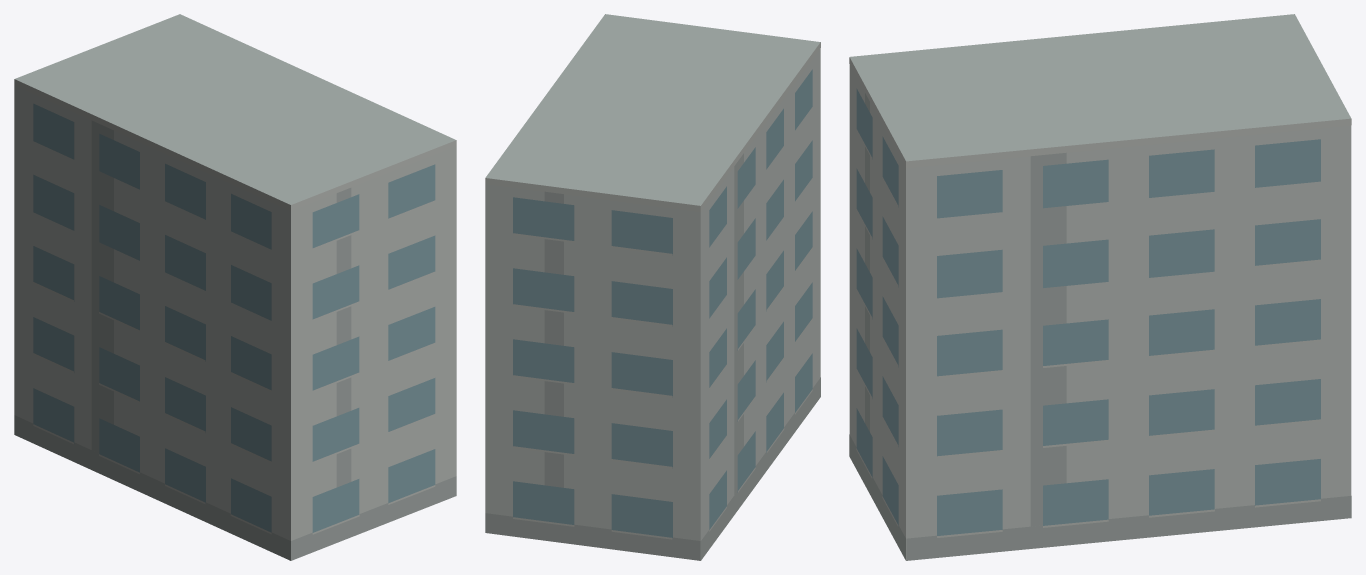
The model's file is survey-upis-32991413.glb.
The picture shows the model from 3 angles, left to right: view 1: azimuth 30°, elevation 25°; view 2: azimuth 150°, elevation 25°; view 3: azimuth 270°, elevation 25°; orthographic projection. The views are drawn at different scales.
Parts seen in each view (by area): view 1: survey-upis-32991413.tmp; view 2: survey-upis-32991413.tmp; view 3: survey-upis-32991413.tmp.
Boxes of the visible parts, x1=… form: survey-upis-32991413.tmp: x1=14, y1=14, x2=456, y2=560; survey-upis-32991413.tmp: x1=485, y1=14, x2=820, y2=560; survey-upis-32991413.tmp: x1=849, y1=14, x2=1351, y2=560.
Size of the model in its own units: 11.32 by 14.3 by 16.3.
